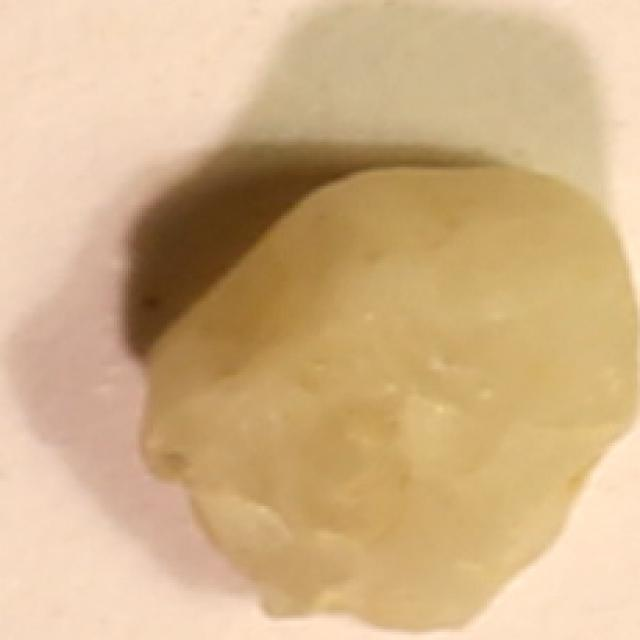stone: (131, 145, 640, 633)
